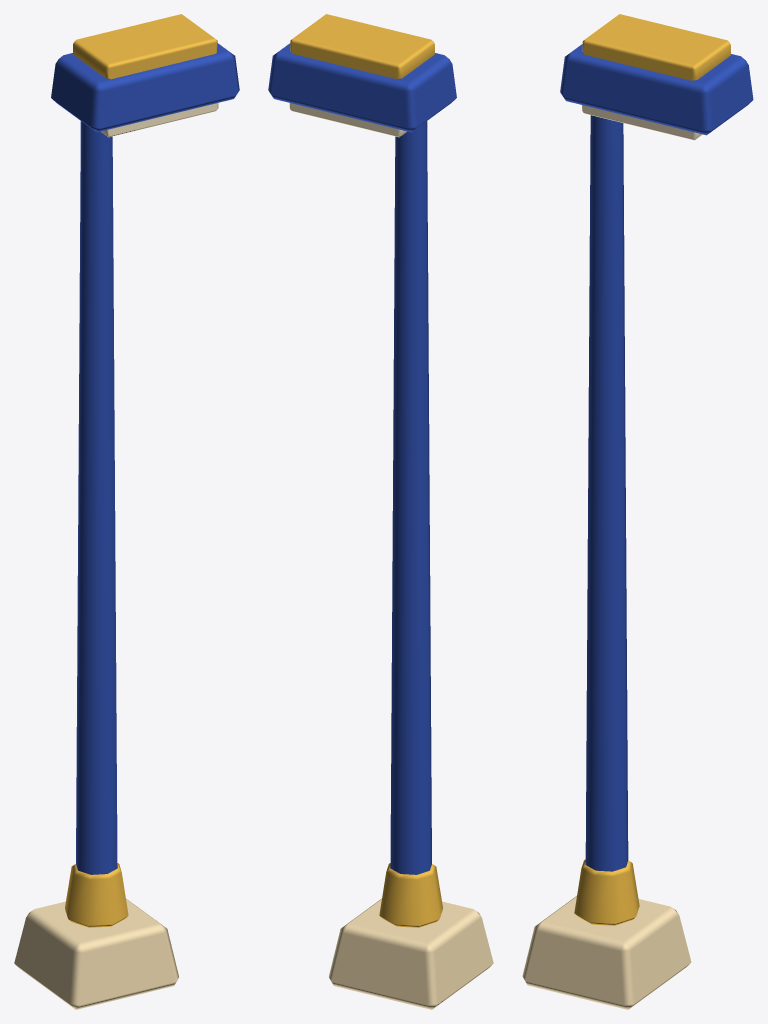
File: lamp.glb
3 renders of one model, left to right at view 1: azimuth 30°, elevation 25°; view 2: azimuth 150°, elevation 25°; view 3: azimuth 330°, elevation 25°, orthographic. The views are drawn at different scales.
Visible parts, largest first — view 1: lamp; view 2: lamp; view 3: lamp.
Part boxes in pixels (box(x1,y1,x2,y2)): lamp: box(14, 14, 239, 1009); lamp: box(268, 14, 493, 1009); lamp: box(522, 14, 753, 1009).
Bounding box in the file's own units: 0.7327 × 3.64 × 0.4508.
